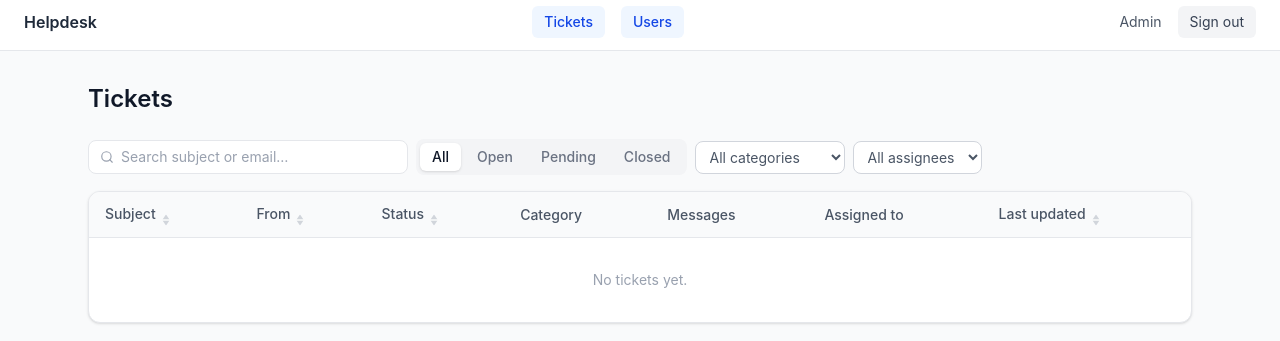
Scenario: TicketsPage — status filter › shows 'Clear filters' when a status is selected
Expected: the heading "Tickets" is shown, [88, 83, 173, 115]
Click the button "Closed": (647,157) [612, 143, 683, 171]
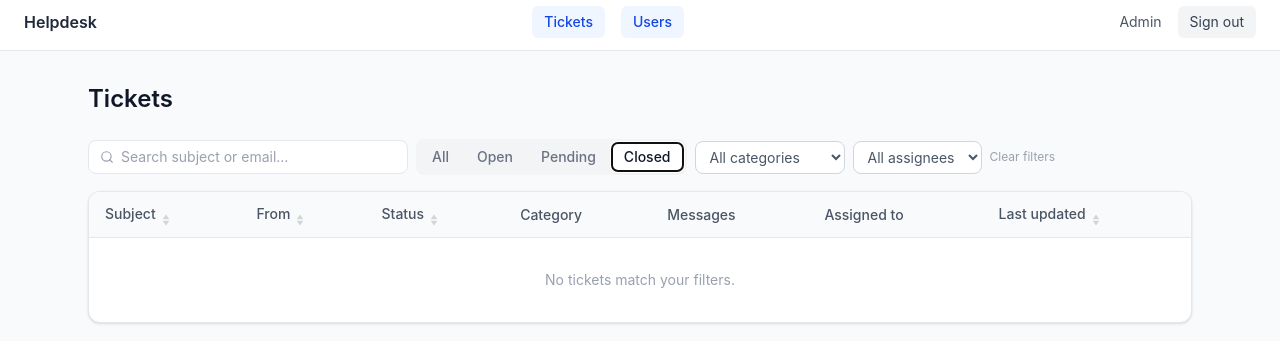
Expected: the button "Clear filters" is shown, [990, 149, 1055, 165]
